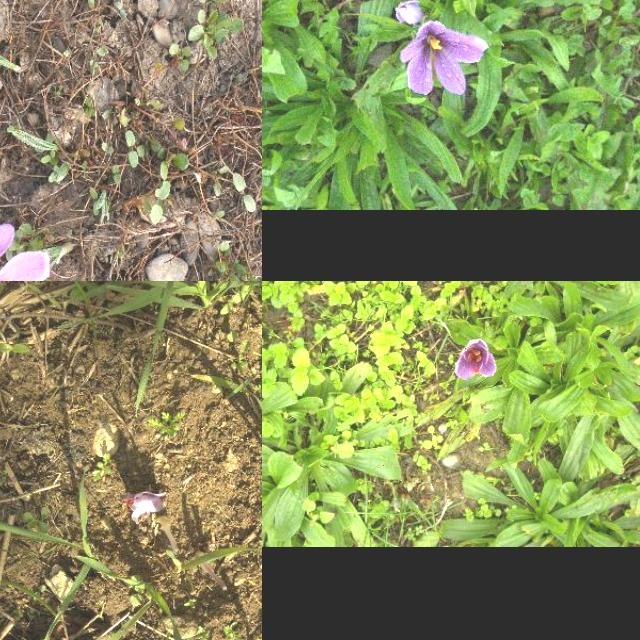flower: (399, 21, 488, 95), (0, 223, 55, 281), (454, 341, 498, 382), (126, 492, 166, 524), (396, 2, 420, 24)
